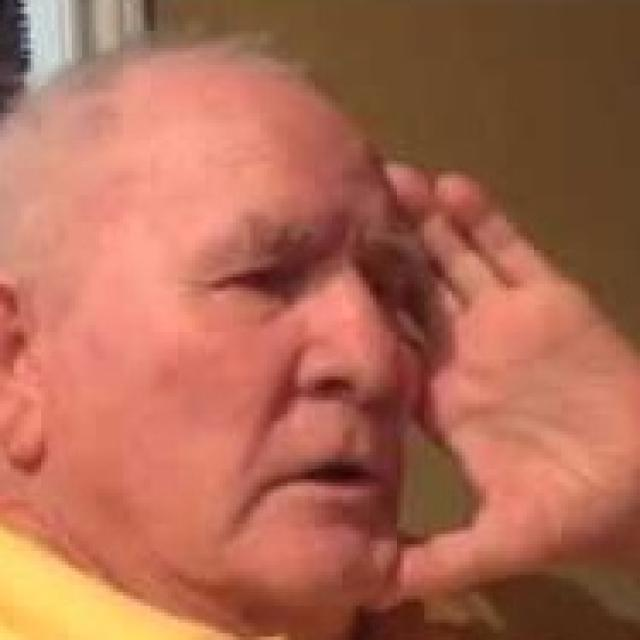Depress: (68, 68, 422, 608)
